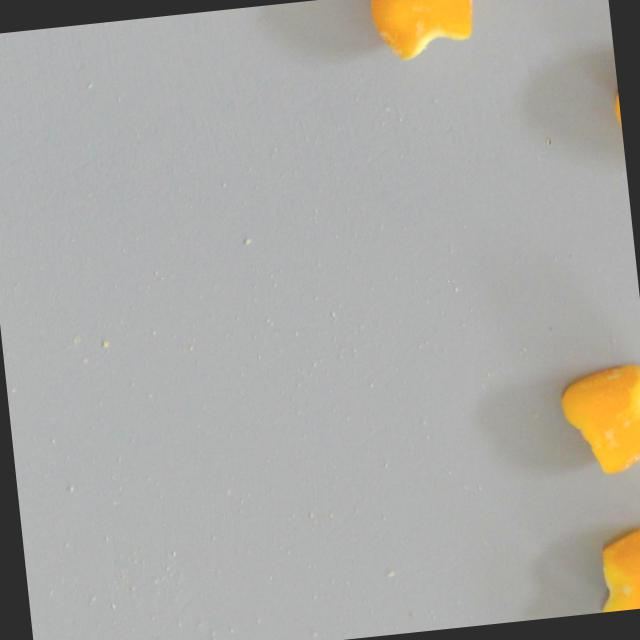pelicula: (553, 364, 640, 478), (367, 0, 476, 64), (587, 526, 640, 613)
